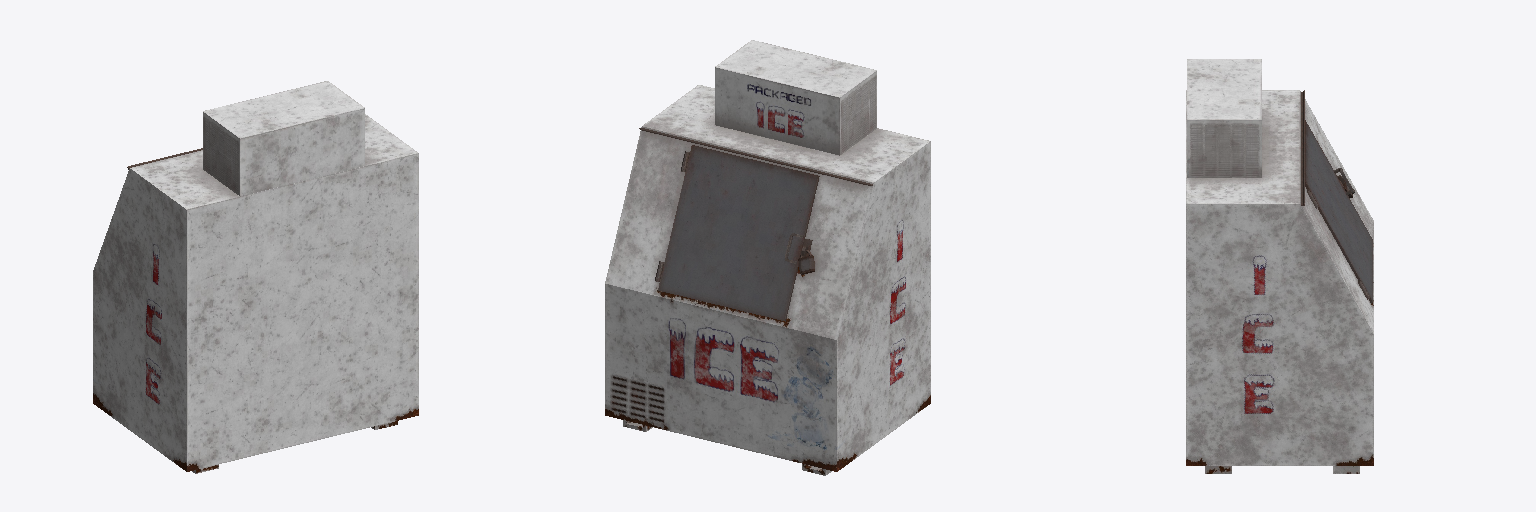
3 views of the same model, side by side, from view 1: azimuth 30°, elevation 25°; view 2: azimuth 150°, elevation 25°; view 3: azimuth 270°, elevation 25° (orthographic).
Parts seen in each view (by area): view 1: Freezer, Power_Cooler; view 2: Freezer, Door, Power_Cooler, Guard; view 3: Freezer, Power_Cooler, Door.
Part boxes in pixels (left/top/right/bottom): Freezer: left=93, top=114, right=418, bottom=471; Power_Cooler: left=203, top=81, right=364, bottom=196; Freezer: left=605, top=85, right=930, bottom=471; Door: left=658, top=145, right=819, bottom=321; Power_Cooler: left=715, top=40, right=876, bottom=155; Guard: left=639, top=128, right=872, bottom=185; Freezer: left=1186, top=90, right=1373, bottom=465; Power_Cooler: left=1187, top=59, right=1261, bottom=177; Door: left=1305, top=120, right=1372, bottom=303.
Bounding box in the file's own units: 1.27 × 1.74 × 0.889.
2 materials, 2 textured.